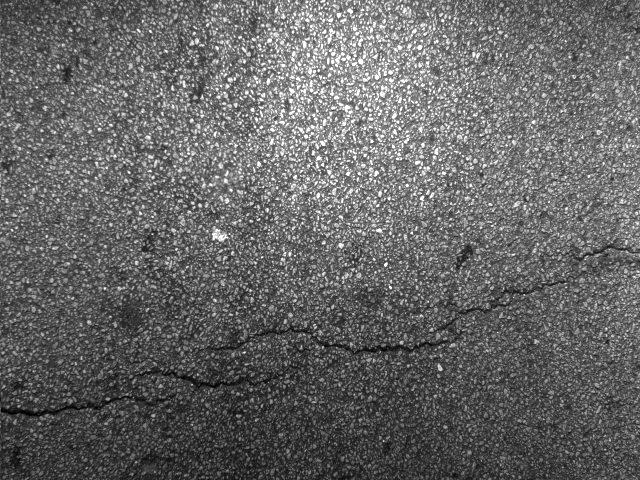crack: (435, 243, 640, 333), (3, 368, 291, 420), (207, 314, 462, 366)
